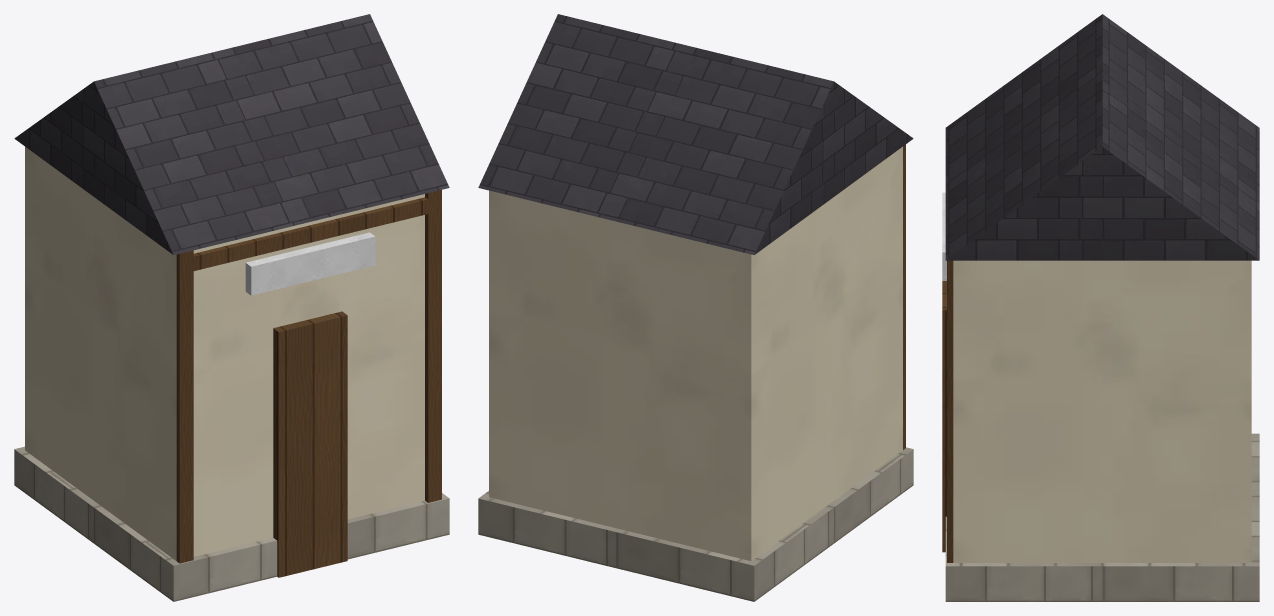
Rendered from category.other.t0.glb.
3 renders of one model, left to right at view 1: azimuth 30°, elevation 25°; view 2: azimuth 150°, elevation 25°; view 3: azimuth 270°, elevation 25°, orthographic.
Parts seen in each view (by area): view 1: building.category.other.t0; view 2: building.category.other.t0; view 3: building.category.other.t0.
Part boxes in pixels (left/top/right/bottom): building.category.other.t0: left=14, top=14, right=449, bottom=601; building.category.other.t0: left=478, top=14, right=913, bottom=601; building.category.other.t0: left=942, top=14, right=1259, bottom=601.
Size of the model in its own units: 2 by 3.2 by 2.02.
5 materials, 5 textured.
